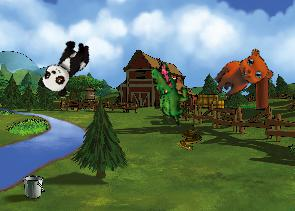bear: (208, 42, 278, 111)
crocodile: (136, 59, 202, 127)
panda: (36, 33, 95, 100)
